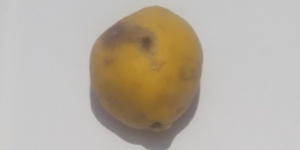BAD: (90, 5, 208, 131)
